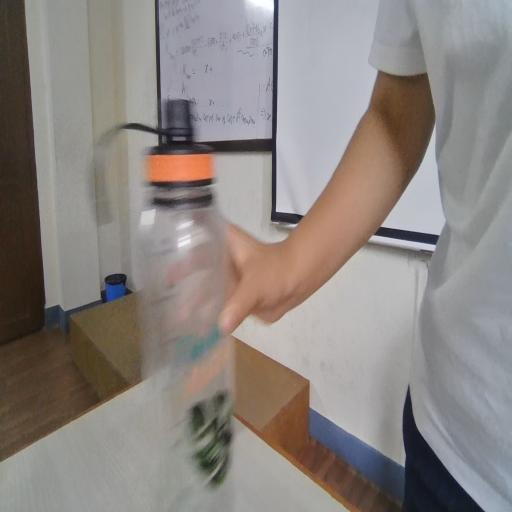Bottle: (128, 93, 252, 488)
